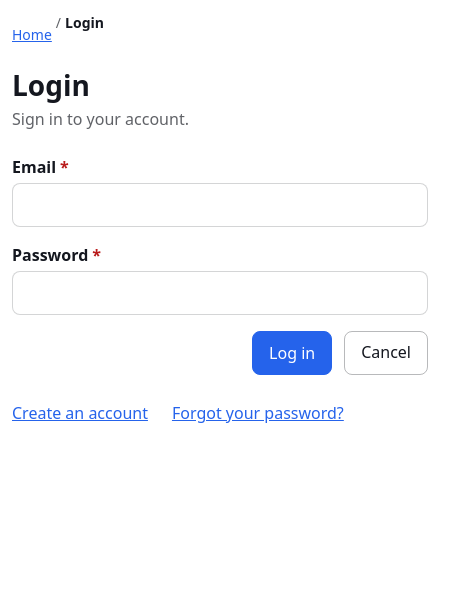
Test case: LoginForm (ACC-10) › 423 says the account is locked
The image size is (450, 611).
Expected: the button "Log in" is shown, [252,331,332,375]
Step 1. Type "ziad@example.com" into the field labelled "Email*" → (220, 205), box [12,183,428,227]
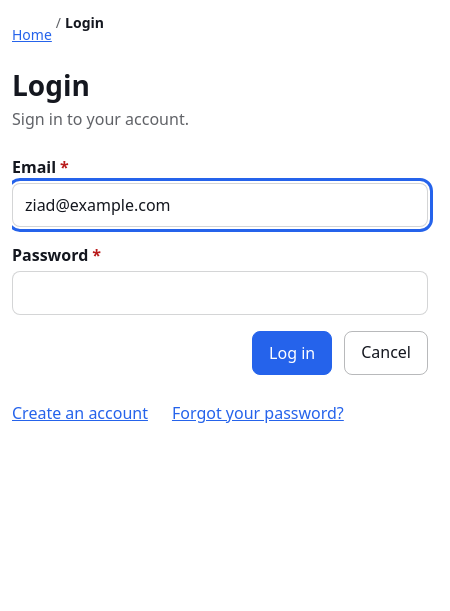
Step 2. Type "Passw0rdOK" into the password field labelled "Password*" → (220, 293), box [12,271,428,315]
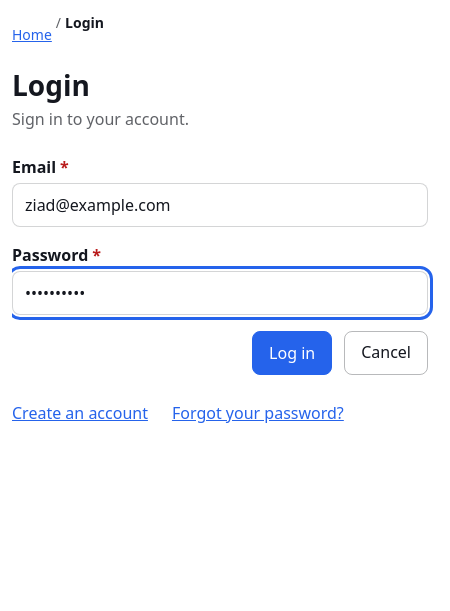
Step 3. Click the button "Log in" → (292, 353), box [252,331,332,375]
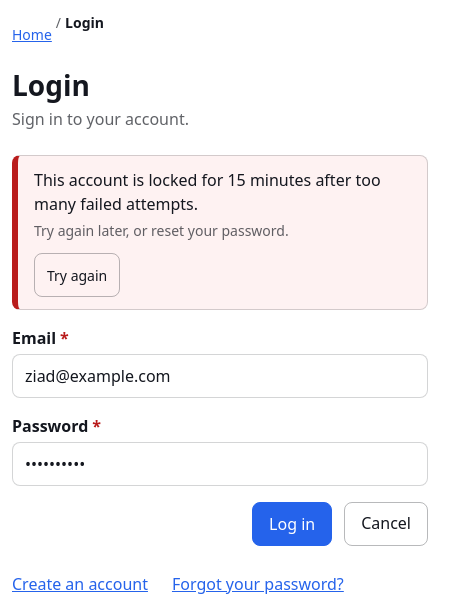
Expected: the message shows "locked", [34,169,381,215]
